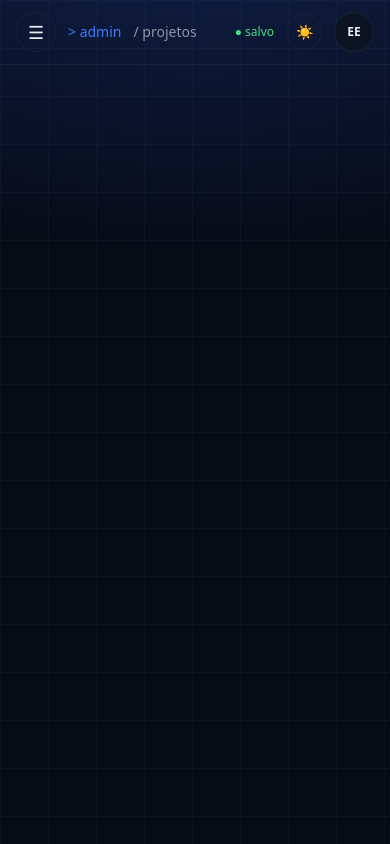
Test: painel: estrutura › ☰ fica no topo e Esc fecha a gaveta
expect the header named "Abrir menu" is shown: met, box [0,0,389,65]
Click the button named "Abrir menu": (36, 32) [16,12,56,52]
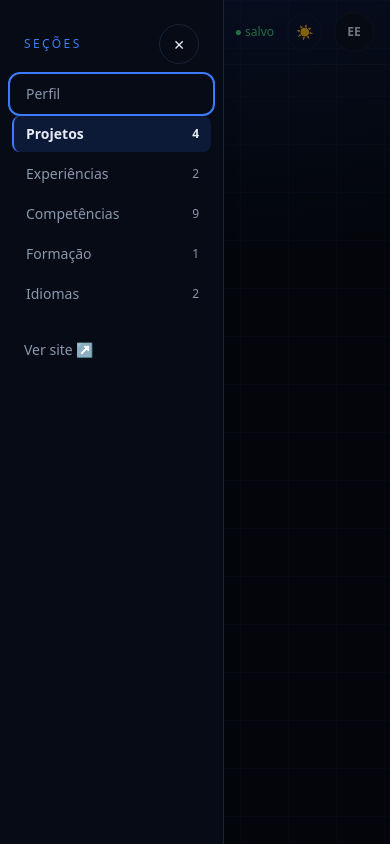
expect the button named "Abrir menu" is expanded: met, box [16,12,56,52]
Press Escape
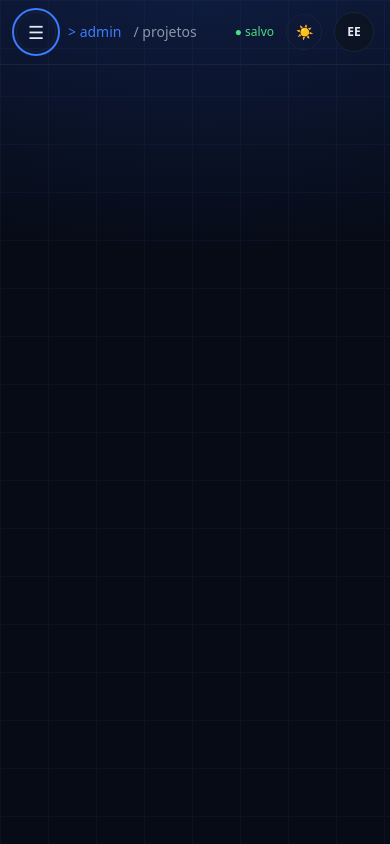
expect the button named "Abrir menu" is collapsed: met, box [16,12,56,52]
